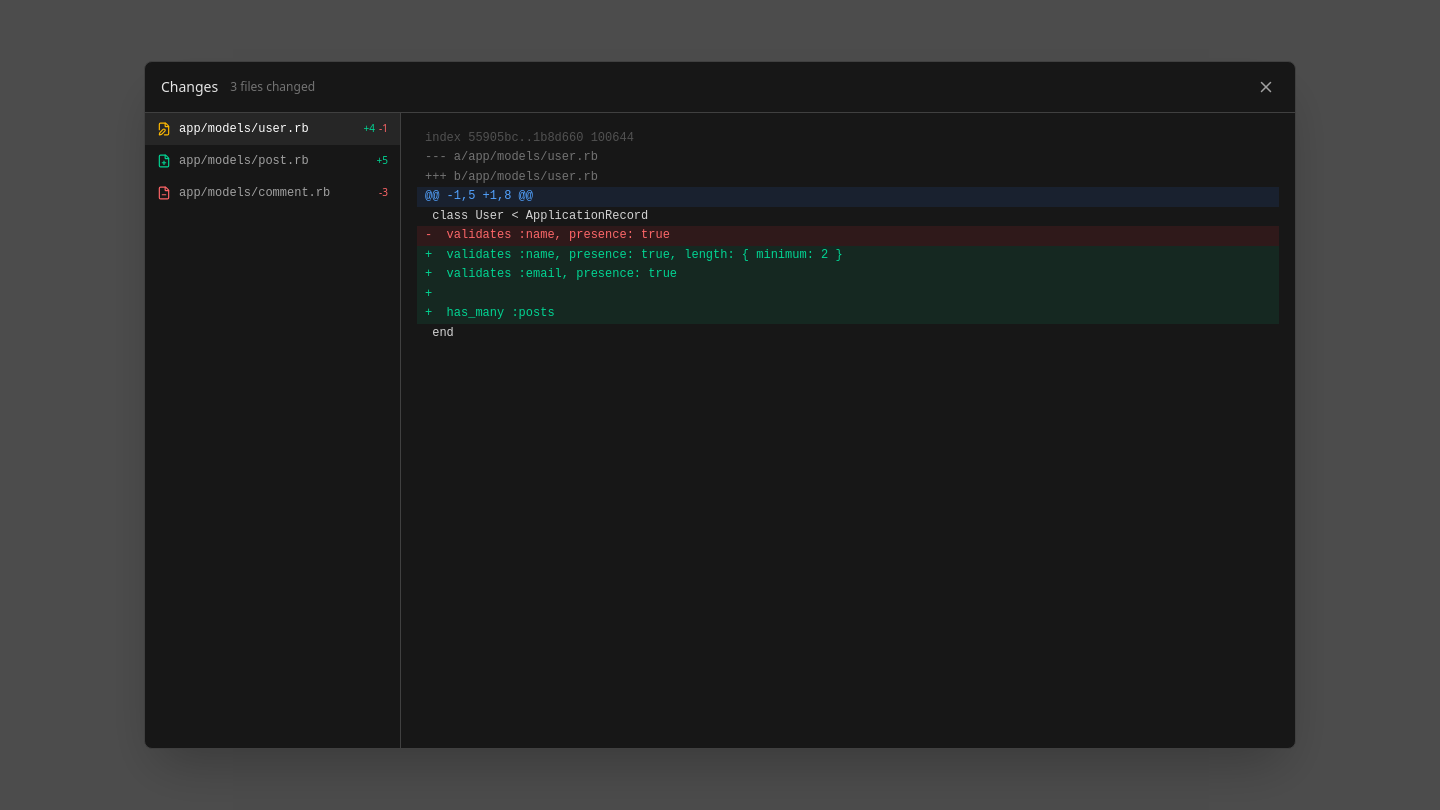
it: DiffViewer › switches file when clicking different file
Note: Click on post.rb
Click the text "app/models/post.rb" at (244, 161), box [179,154,309,168]
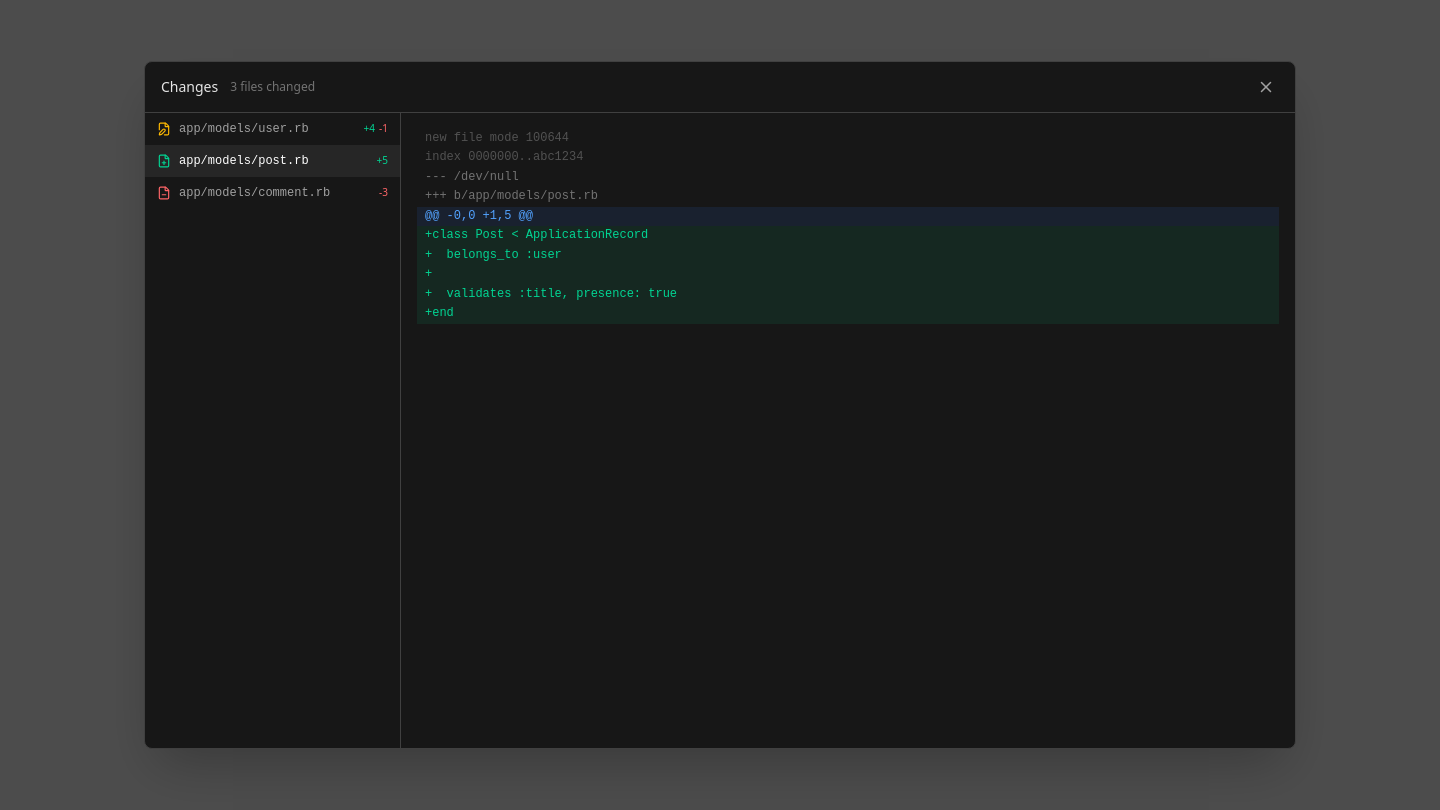
Now the text "+class Post < ApplicationRecord" is shown, box [417,226,1279,246]
